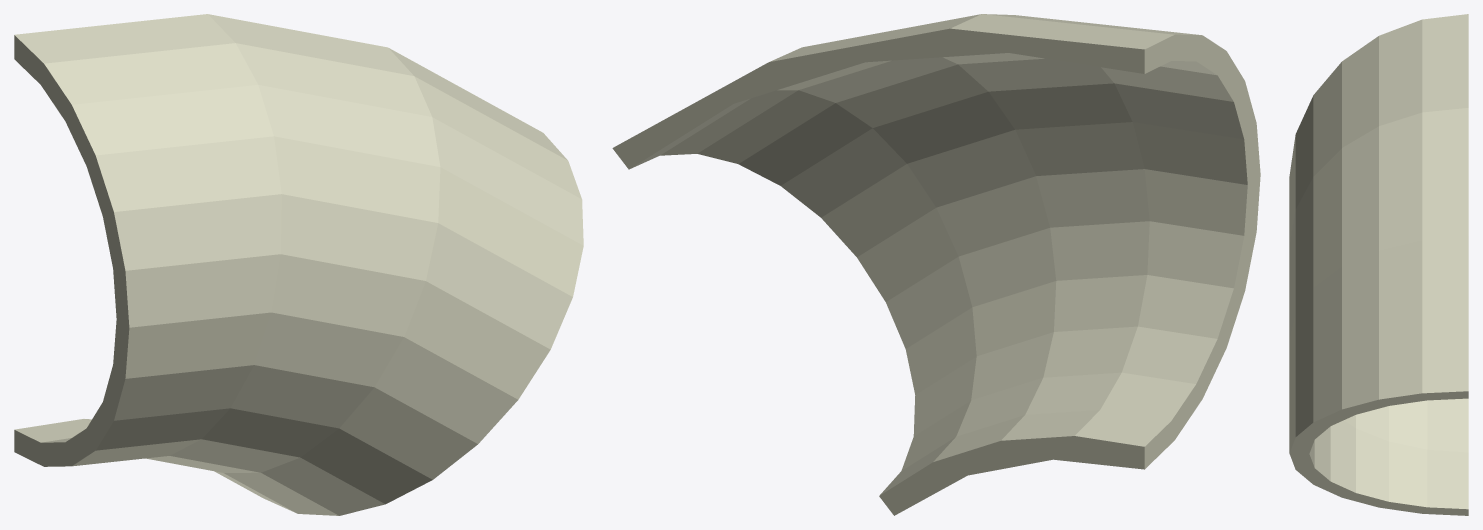
Rendered from section_212.obj.
3 views of the same model, side by side, from view 1: azimuth 30°, elevation 25°; view 2: azimuth 150°, elevation 25°; view 3: azimuth 270°, elevation 25° (orthographic). The views are drawn at different scales.
Bounding box in the file's own units: 23.88 × 22.61 × 9.
